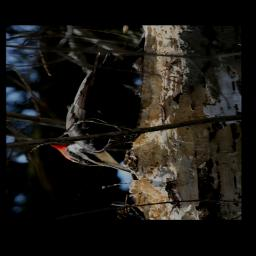Woodpecker: (49, 32, 143, 173)
